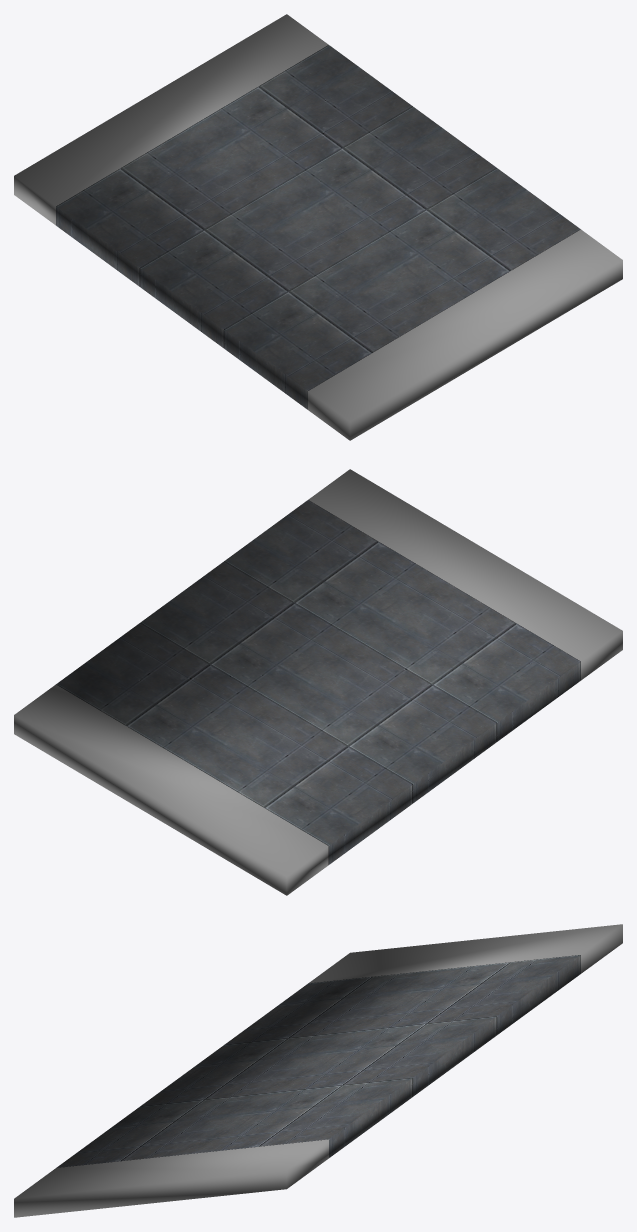
Rendered from Neon_CraneRamp.FBX.
The picture shows the model from 3 angles, top to bottom: view 1: azimuth 30°, elevation 25°; view 2: azimuth 150°, elevation 25°; view 3: azimuth 330°, elevation 25°; orthographic projection.
Visible parts, largest first — view 1: Neon_CraneRamp; view 2: Neon_CraneRamp; view 3: Neon_CraneRamp.
Boxes of the visible parts, bbox=[...] form: Neon_CraneRamp: bbox=[14, 14, 622, 440]; Neon_CraneRamp: bbox=[14, 469, 622, 895]; Neon_CraneRamp: bbox=[14, 924, 622, 1217].
Size of the model in its own units: 15 by 6 by 32.
